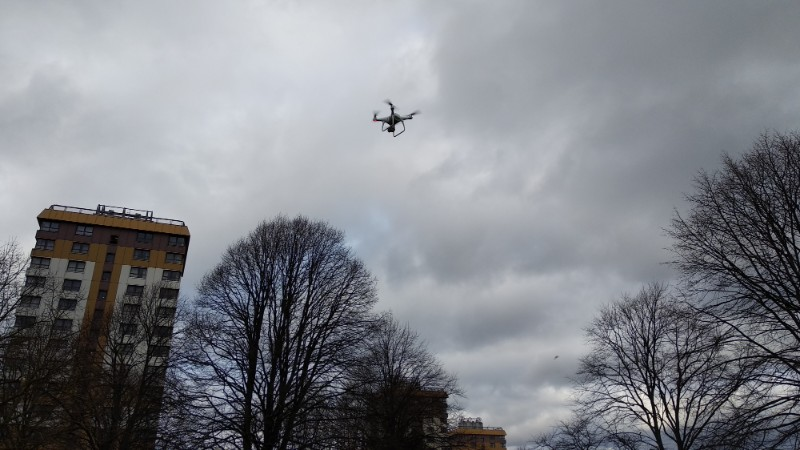drone: (370, 100, 424, 137)
